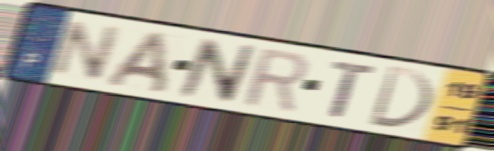A: (101, 28, 169, 97)
D: (365, 64, 436, 133)
N: (175, 36, 259, 107), (46, 18, 127, 83)
R: (241, 46, 309, 115)
T: (328, 59, 380, 121)
